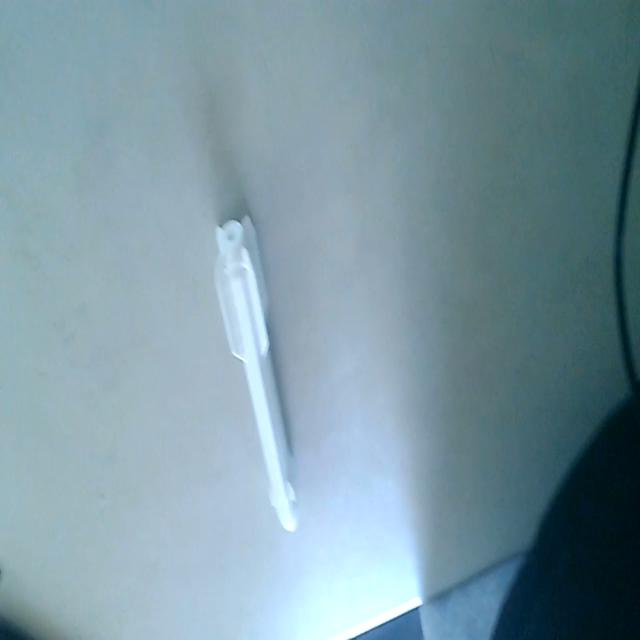Rocket: (213, 214, 299, 538)
